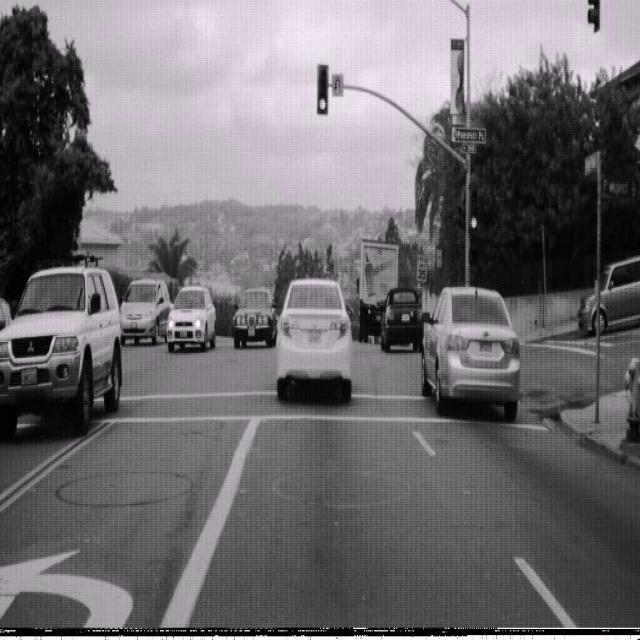speedLimit35: (416, 253, 428, 283)
